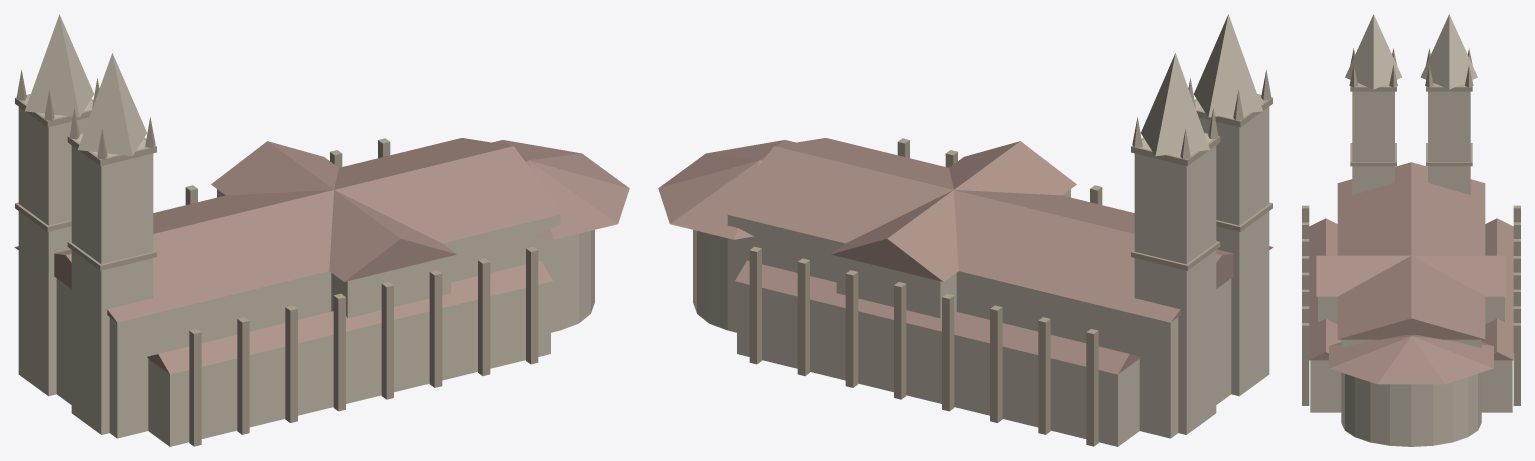
The model's file is catedralsantiago.glb.
The picture shows the model from 3 angles, left to right: view 1: azimuth 30°, elevation 25°; view 2: azimuth 150°, elevation 25°; view 3: azimuth 270°, elevation 25°; orthographic projection. The views are drawn at different scales.
Size of the model in its own units: 118 by 74 by 56.2.
